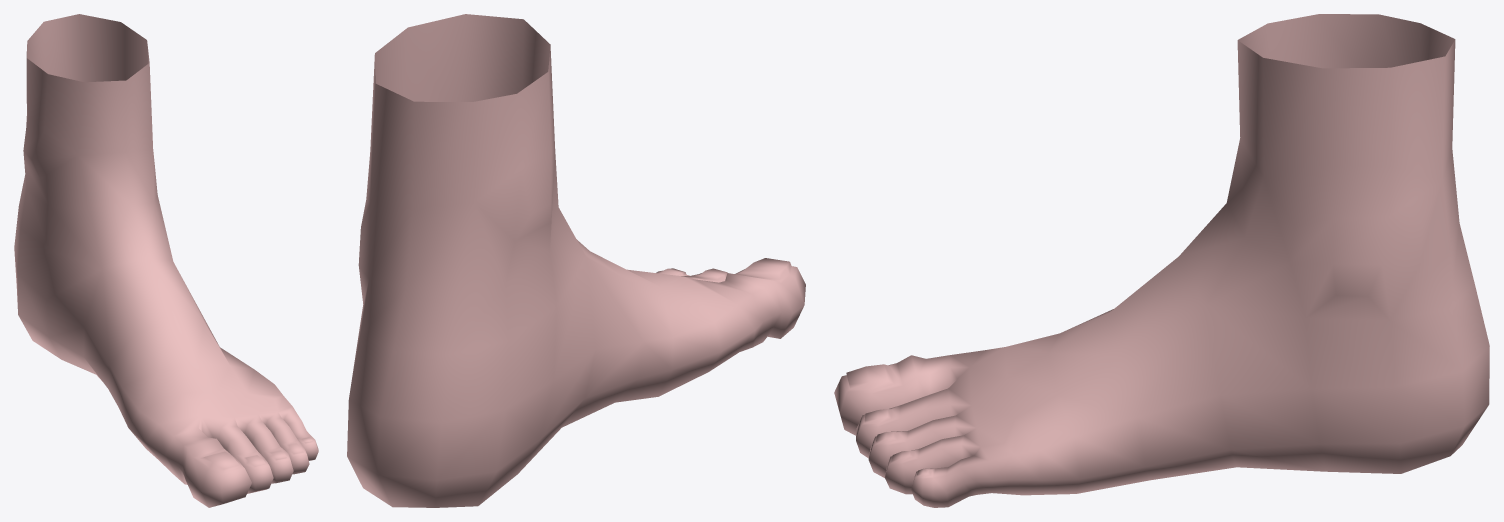
File: Base_Female_A_Foot01.fbx
3 renders of one model, left to right at view 1: azimuth 30°, elevation 25°; view 2: azimuth 150°, elevation 25°; view 3: azimuth 270°, elevation 25°, orthographic. The views are drawn at different scales.
Parts seen in each view (by area): view 1: Base_Female_A_Foot01; view 2: Base_Female_A_Foot01; view 3: Base_Female_A_Foot01.
Boxes of the visible parts, x1=… form: Base_Female_A_Foot01: x1=14, y1=14, x2=318, y2=507; Base_Female_A_Foot01: x1=347, y1=14, x2=805, y2=507; Base_Female_A_Foot01: x1=834, y1=14, x2=1489, y2=507.
Size of the model in its own units: 0.5134 by 1.01 by 1.4.
